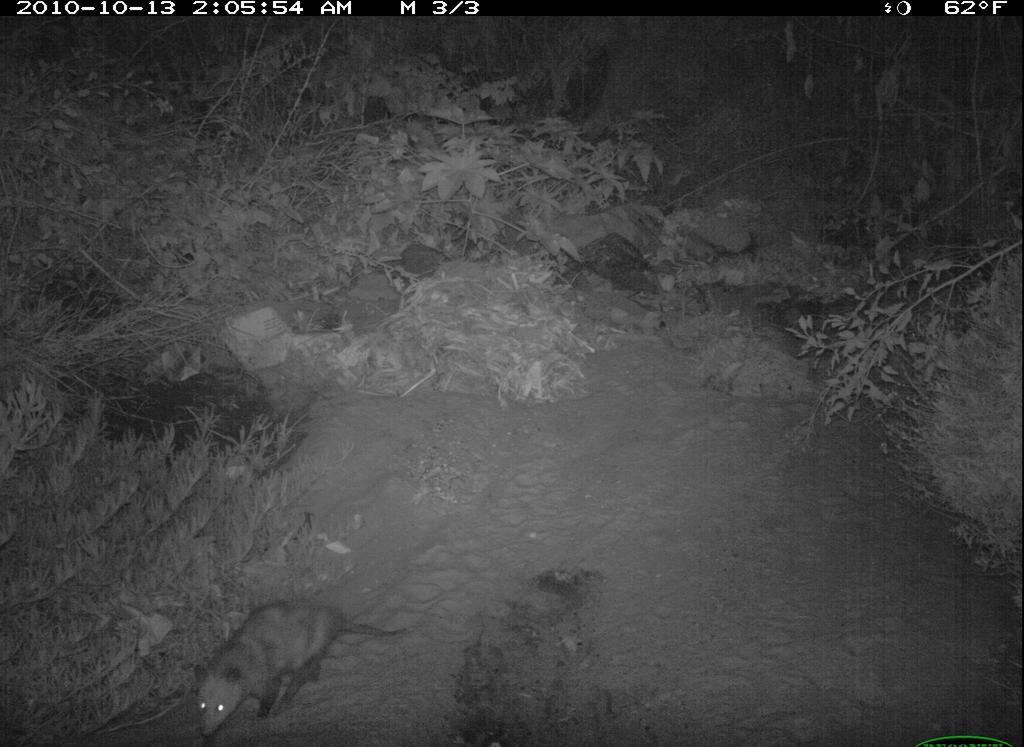opossum: (191, 593, 405, 744)
